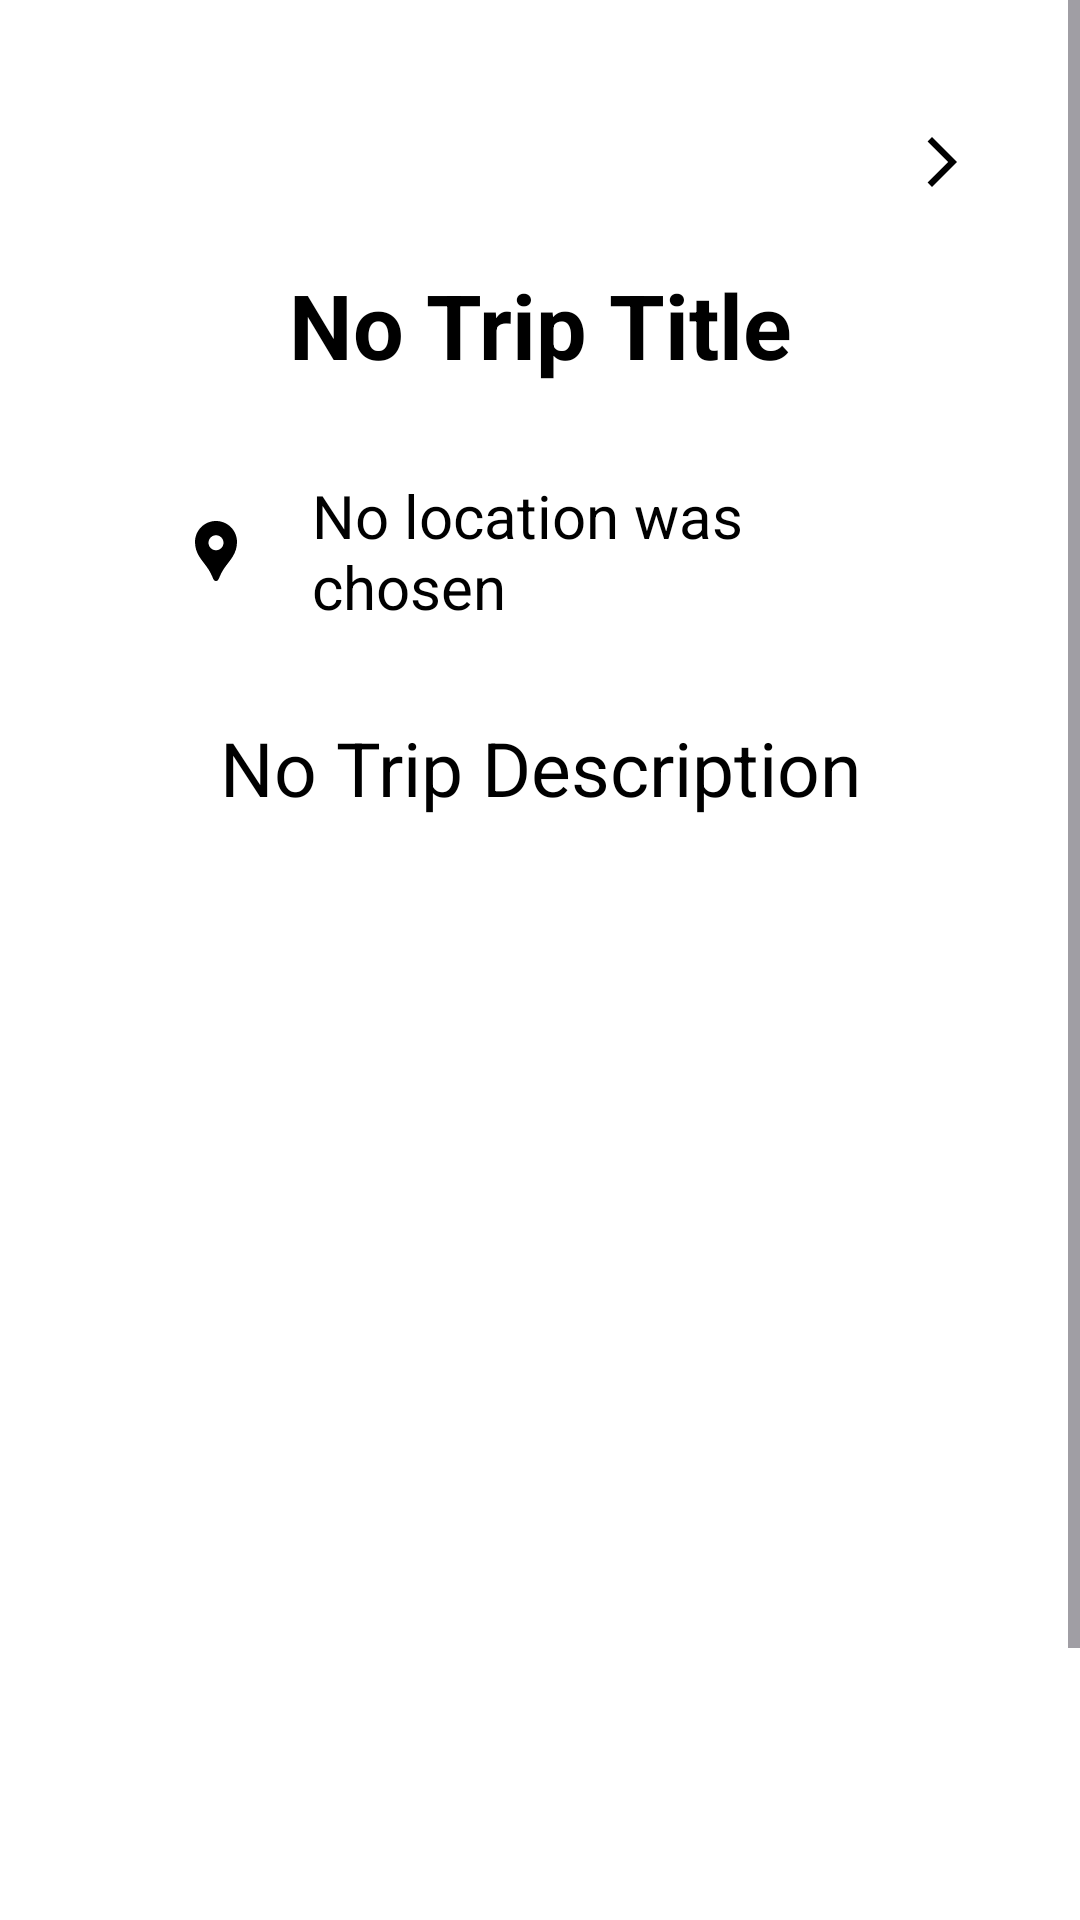

Screen size 1080×1920. Icon name, then its center in pixels as (x,y):
location pin: (216,551)
